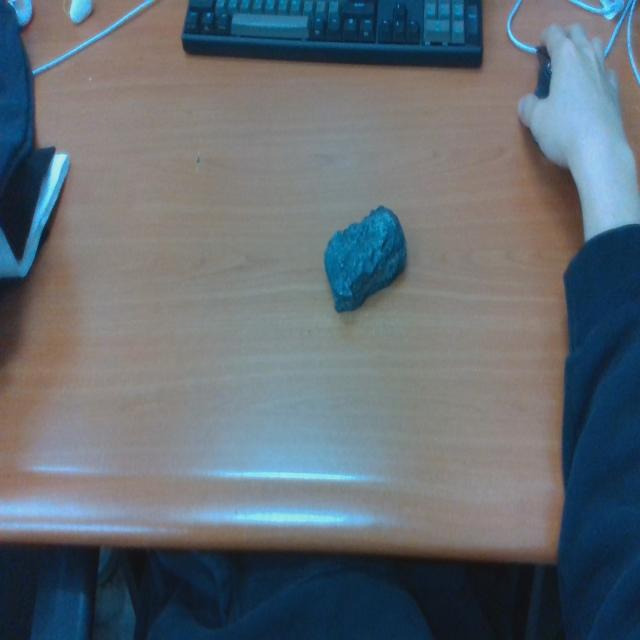stone: (324, 204, 408, 314)
